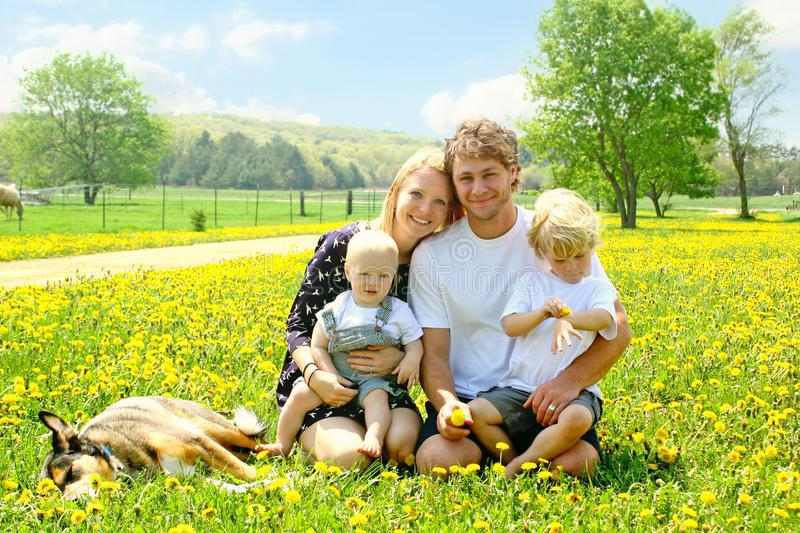child: (465, 185, 617, 478), (296, 230, 429, 455)
